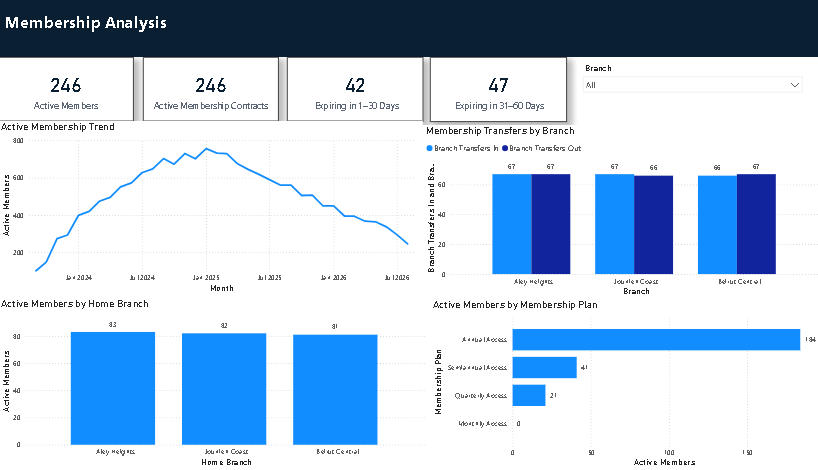

The page's visual inventory and layout, read from the dashboard file:
{"tool":"powerbi","page":{"name":"Membership Analysis","canvas":[1400,800],"ordinal":1},"visuals":[{"type":"shape","box":[0,0,1400,100],"z":0},{"type":"textbox","box":[0,14.6,1257.1,133.2],"z":1000},{"type":"card","fields":{"Values":["_Measures.Active Members"]},"box":[0,100,229.7,109.4],"z":2000},{"type":"card","fields":{"Values":["_Measures.Active Membership Contracts"]},"box":[245.3,100,229.7,109.4],"z":3000},{"type":"card","fields":{"Values":["_Measures.Expiring Memberships 1-30 Days"]},"box":[489.1,100,231.2,109.4],"z":4000},{"type":"card","fields":{"Values":["_Measures.Expiring Memberships 31-60 Days"]},"box":[731.7,100,231.7,110],"z":5000},{"type":"lineChart","title":"Active Membership Trend","fields":{"Category":["Dim_Date.month_start_date"],"Y":["_Measures.Active Members"]},"box":[0,209.3,720.4,296.3],"z":6000},{"type":"clusteredBarChart","title":"Active Members by Membership Plan","fields":{"Category":["Dim_Plan_Version.plan_name"],"Y":["_Measures.Active Members"]},"box":[731.7,510,668.3,290],"z":7000},{"type":"clusteredColumnChart","title":"Active Members by Home Branch","fields":{"Category":["Dim_Branch.branch_name"],"Y":["_Measures.Active Members"]},"box":[0,509.3,731.5,290.7],"z":8000},{"type":"clusteredColumnChart","title":"Membership Transfers by Branch","fields":{"Category":["Dim_Branch.branch_name"],"Y":["_Measures.Branch Transfers In","_Measures.Branch Transfers Out"]},"box":[720,215,680,295],"z":9000},{"type":"slicer","fields":{"Values":["Dim_Branch.branch_name"]},"box":[981.2,104.7,392.2,100],"z":10000}]}

Visuals, with their boxes in screenshot pixels (x1, y1, x2, y2), scaled from the page's 1400x800 canvas onto the 818x470 screenshot:
shape: (x1=0, y1=0, x2=817, y2=59)
textbox: (x1=0, y1=9, x2=735, y2=87)
card - _Measures.Active Members: (x1=0, y1=59, x2=134, y2=123)
card - _Measures.Active Membership Contracts: (x1=143, y1=59, x2=278, y2=123)
card - _Measures.Expiring Memberships 1-30 Days: (x1=286, y1=59, x2=421, y2=123)
card - _Measures.Expiring Memberships 31-60 Days: (x1=428, y1=59, x2=563, y2=123)
"Active Membership Trend" lineChart: (x1=0, y1=123, x2=421, y2=297)
"Active Members by Membership Plan" clusteredBarChart: (x1=428, y1=300, x2=817, y2=469)
"Active Members by Home Branch" clusteredColumnChart: (x1=0, y1=299, x2=427, y2=469)
"Membership Transfers by Branch" clusteredColumnChart: (x1=421, y1=126, x2=817, y2=300)
slicer - Dim_Branch.branch_name: (x1=573, y1=62, x2=802, y2=120)
